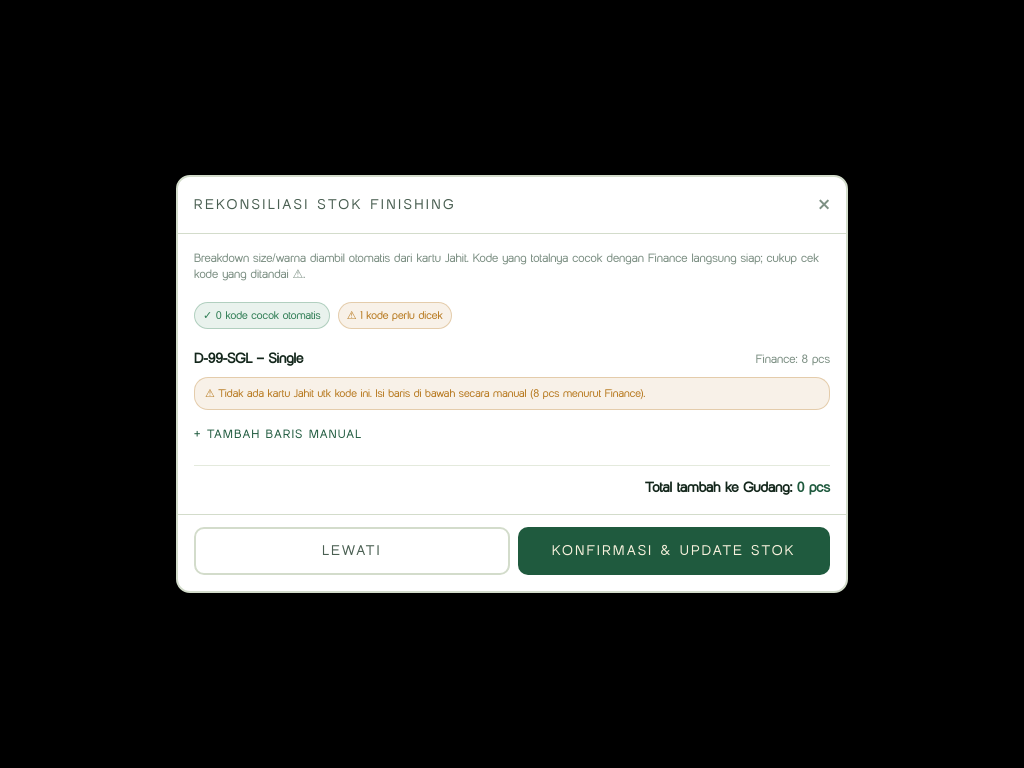
Test: FinishingStockModal (permintaan Denny 2026-09) › Ukuran/Warna baris manual — auto-select kalau cuma 1 opsi (Task D #3) › baris manual baru langsung terisi Ukuran+Warna kalau produk cuma punya 1 opsi masing-masing
expect the text "D-99-SGL — Single" is shown: met, box x1=194 y1=349 x2=303 y2=369
What coordinates should you click on to do the following:
click the button "+ Tambah baris manual"
I would click on:
 (278, 434)
Its box is x1=194 y1=426 x2=362 y2=442.
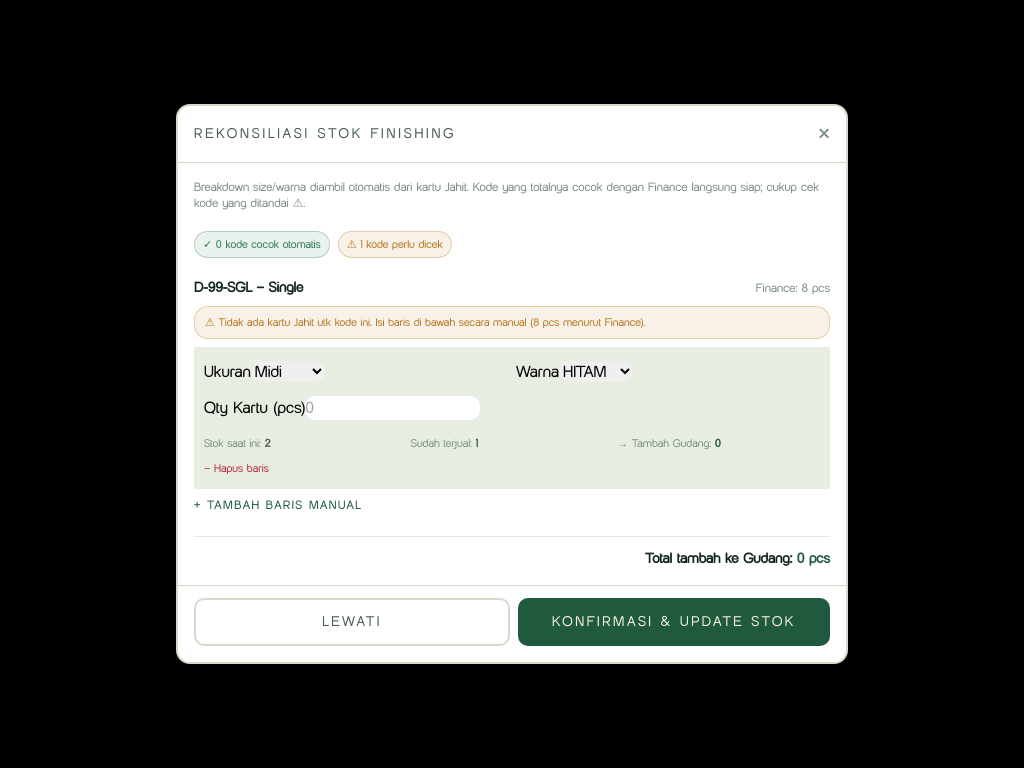
expect the dropdown next to "Ukuran" shows "Midi": met, box x1=251 y1=361 x2=325 y2=382
expect the 2nd dropdown shows "HITAM": met, box x1=559 y1=361 x2=633 y2=382
